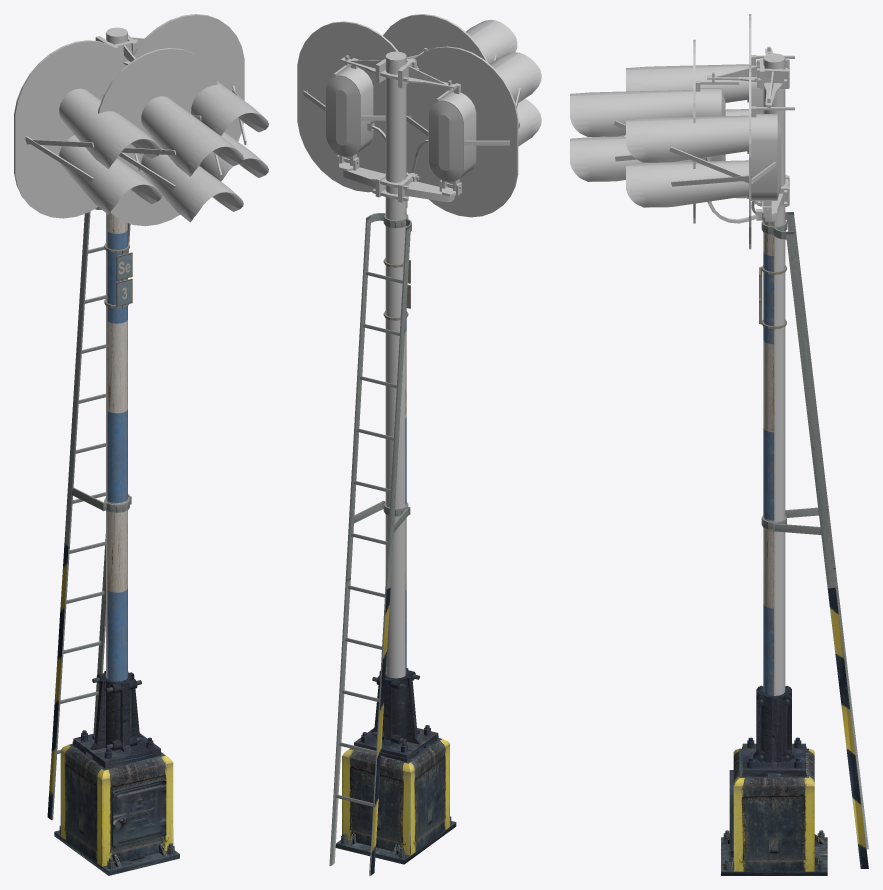
The model's file is sssr_2se_nove.obj.
The picture shows the model from 3 angles, left to right: view 1: azimuth 30°, elevation 25°; view 2: azimuth 150°, elevation 25°; view 3: azimuth 270°, elevation 25°; orthographic projection. The views are drawn at different scales.
Visible parts, largest first — view 1: stoz_2se_zaklad, stit_2l, stit_2, stoz_2se_nater, stit_2r, stoz_2se_stozar, stoz_2se_cisla; view 2: stoz_2se_zaklad, stit_2l, stit_2r, stoz_2se_stozar, stit_2, stoz_2se_nater; view 3: stoz_2se_zaklad, stit_2r, stit_2, stoz_2se_stozar, stoz_2se_nater, stit_2l.
Boxes of the visible parts, x1,y1,x2,y2 form: stoz_2se_zaklad: (47, 207, 179, 875); stit_2l: (14, 36, 161, 218); stit_2: (96, 39, 243, 226); stoz_2se_nater: (107, 212, 127, 681); stit_2r: (128, 14, 268, 181); stoz_2se_stozar: (106, 27, 127, 678); stoz_2se_cisla: (104, 243, 132, 308); stoz_2se_zaklad: (329, 213, 456, 875); stit_2l: (382, 46, 541, 217); stit_2r: (297, 21, 414, 197); stoz_2se_stozar: (385, 51, 406, 678); stit_2: (383, 14, 517, 207); stoz_2se_nater: (405, 202, 406, 675); stoz_2se_zaklad: (721, 212, 868, 875); stit_2r: (626, 65, 794, 249); stit_2: (570, 39, 788, 223); stoz_2se_stozar: (763, 53, 785, 695); stoz_2se_nater: (763, 220, 774, 695); stit_2l: (626, 14, 794, 220).
Bounding box in the file's own units: 0.9719 × 3.35 × 1.12.
